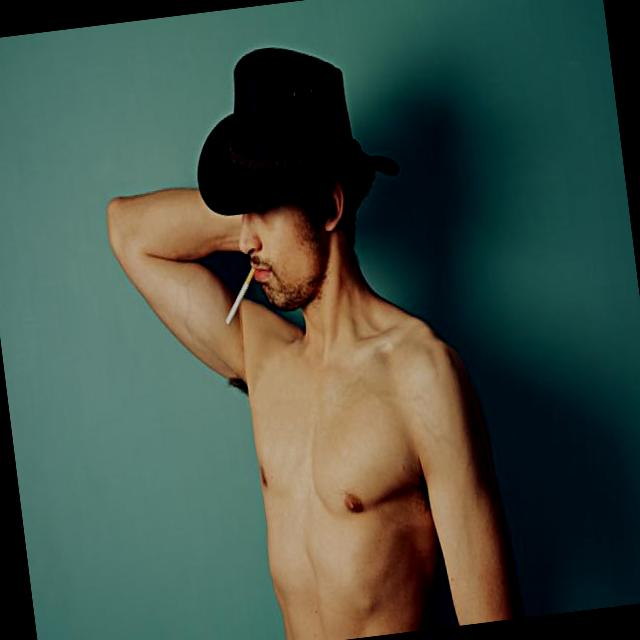smoke: (214, 255, 268, 332)
